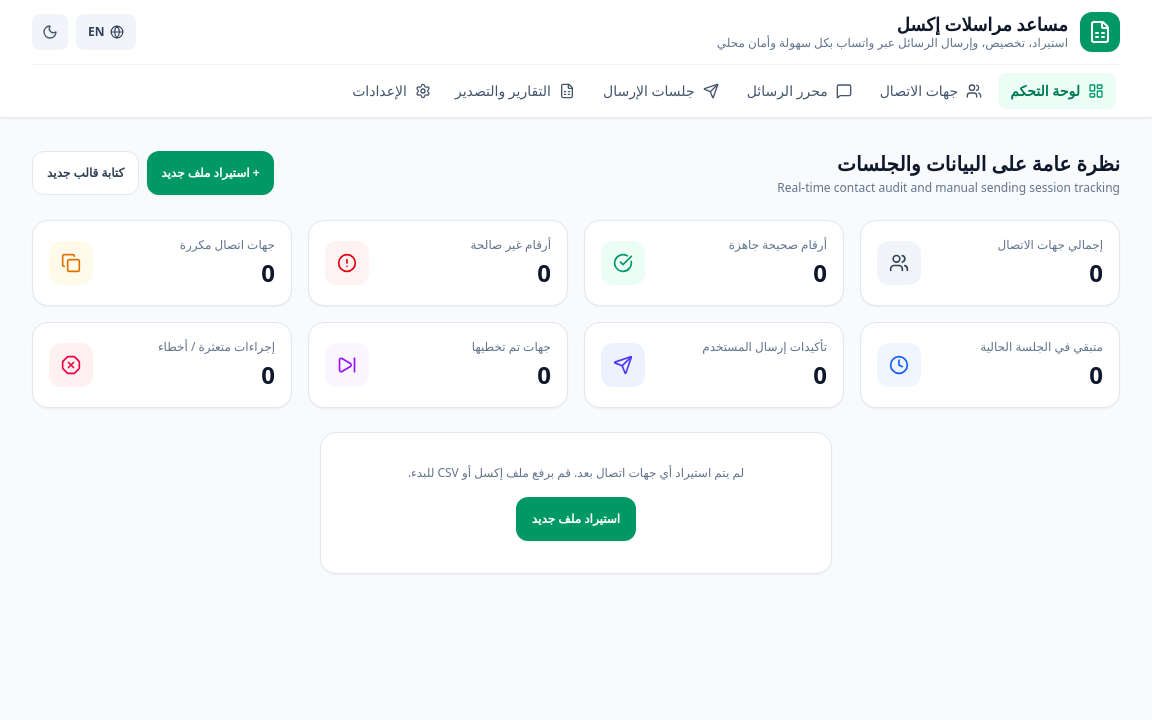
App Integration Flow › switches between Arabic and English seamlessly
Click the button titled "Toggle Language" at (106, 32), box [76,14,136,50]
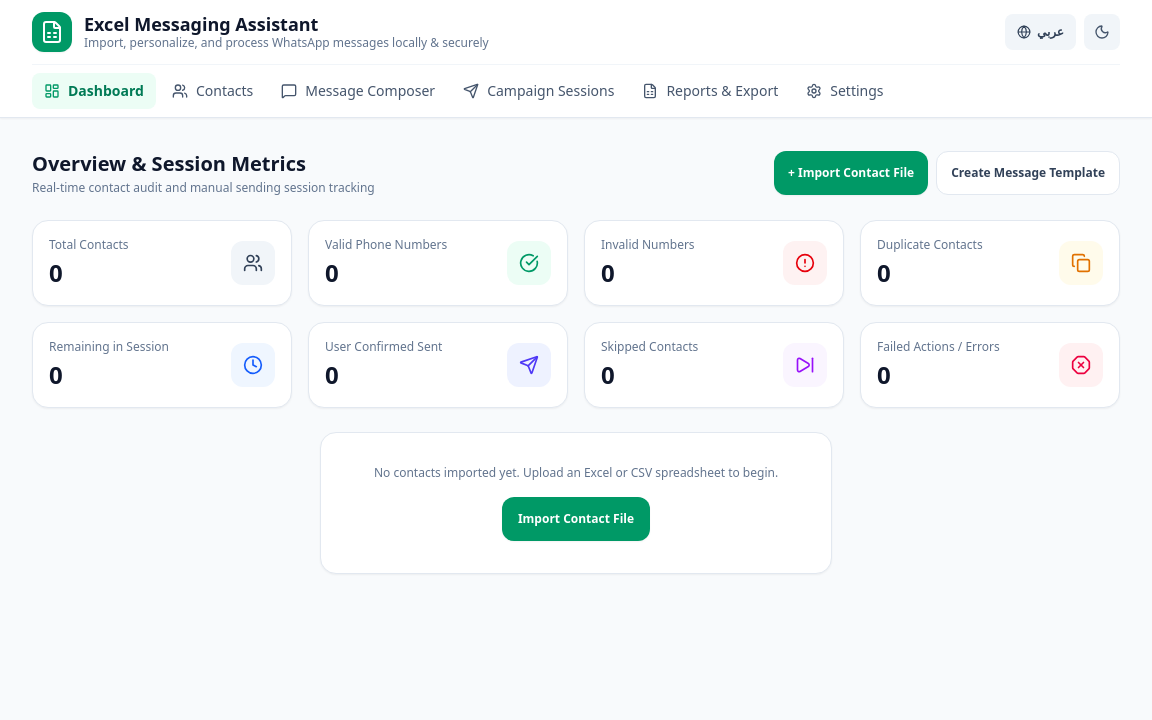
Expected: the text "Dashboard" is shown, [68,81,144,101]
Expected: the text "Contacts" is shown, [196,81,253,101]
Expected: the text "Message Composer" is shown, [305,81,435,101]
